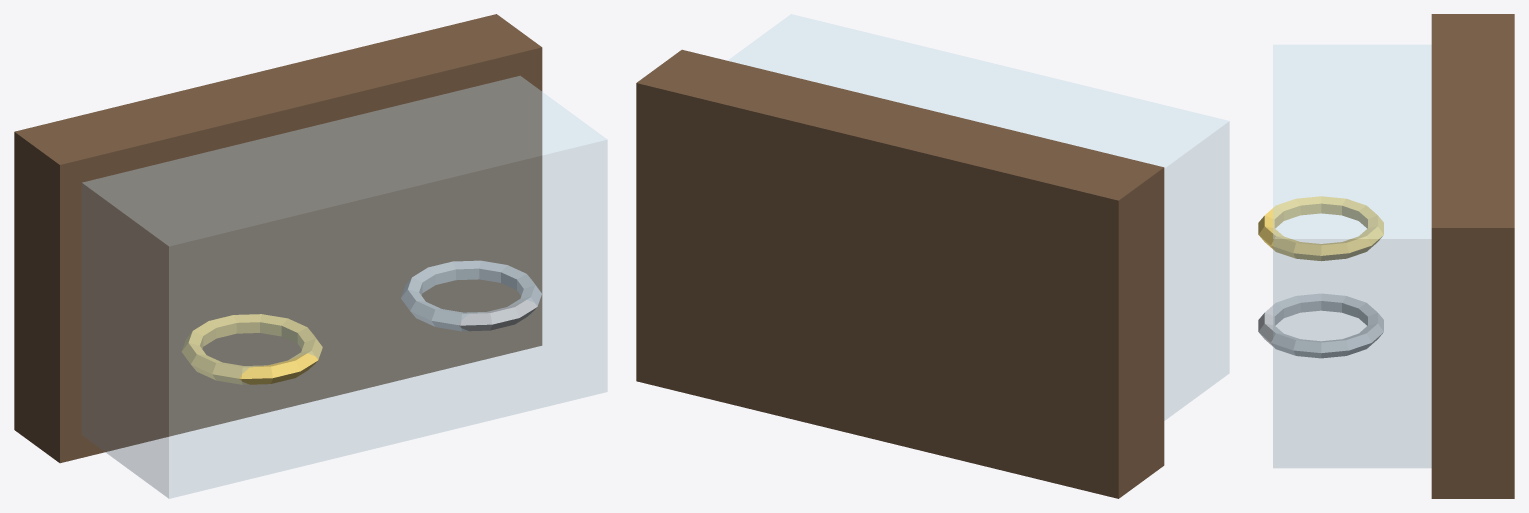
File: display_ring_case.glb
The picture shows the model from 3 angles, left to right: view 1: azimuth 30°, elevation 25°; view 2: azimuth 150°, elevation 25°; view 3: azimuth 270°, elevation 25°; orthographic projection. The views are drawn at different scales.
Visible parts, largest first — view 1: case_base, glass_cover, ring_slot_a, ring_slot_b; view 2: case_base, glass_cover; view 3: glass_cover, case_base, ring_slot_a, ring_slot_b.
Part boxes in pixels (x1,y1,x2,y2): case_base: [14, 14, 542, 463]; glass_cover: [82, 76, 607, 498]; ring_slot_a: [181, 314, 322, 384]; ring_slot_b: [401, 260, 541, 331]; case_base: [636, 49, 1164, 498]; glass_cover: [728, 14, 1229, 420]; glass_cover: [1273, 45, 1431, 467]; case_base: [1431, 14, 1514, 498]; ring_slot_a: [1258, 196, 1383, 260]; ring_slot_b: [1258, 293, 1383, 358].
Bounding box in the file's own units: 1.1 × 0.65 × 0.5565.
